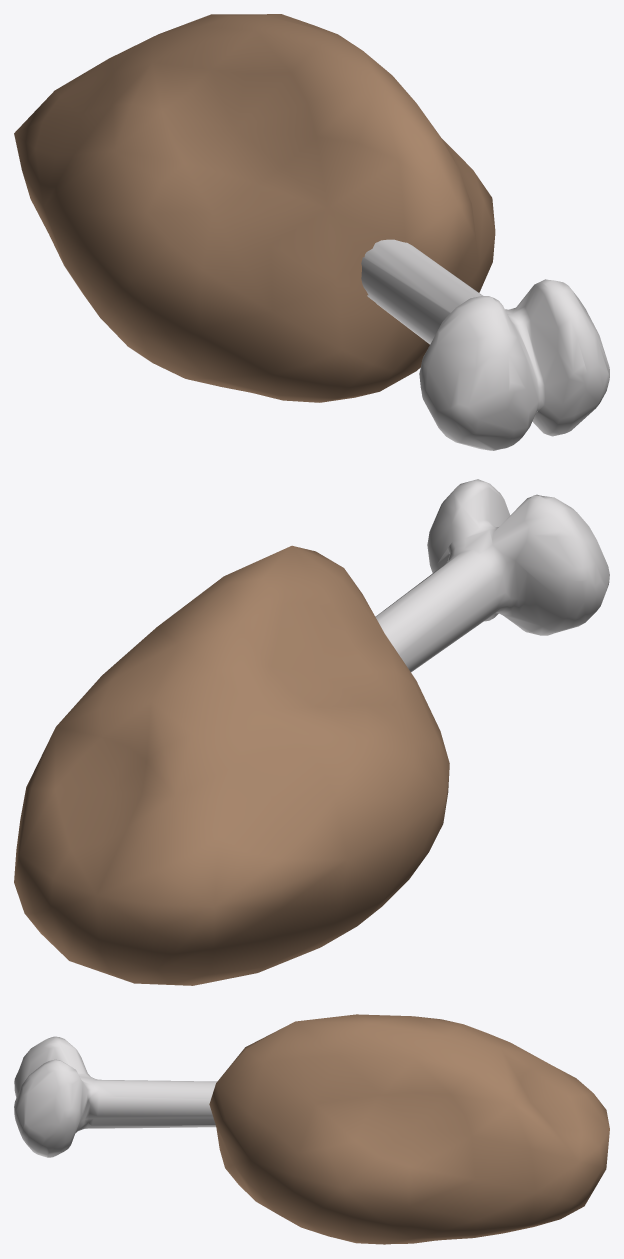
File: chicken.fbx
The picture shows the model from 3 angles, top to bottom: view 1: azimuth 30°, elevation 25°; view 2: azimuth 150°, elevation 25°; view 3: azimuth 270°, elevation 25°; orthographic projection. The views are drawn at different scales.
Visible parts, largest first — view 1: Icosphere; view 2: Icosphere; view 3: Icosphere.
Boxes of the visible parts, x1=… form: Icosphere: x1=14, y1=14, x2=609, y2=450; Icosphere: x1=14, y1=479, x2=609, y2=985; Icosphere: x1=14, y1=1014, x2=609, y2=1244.
Bounding box in the file's own units: 160 × 150 × 350.
